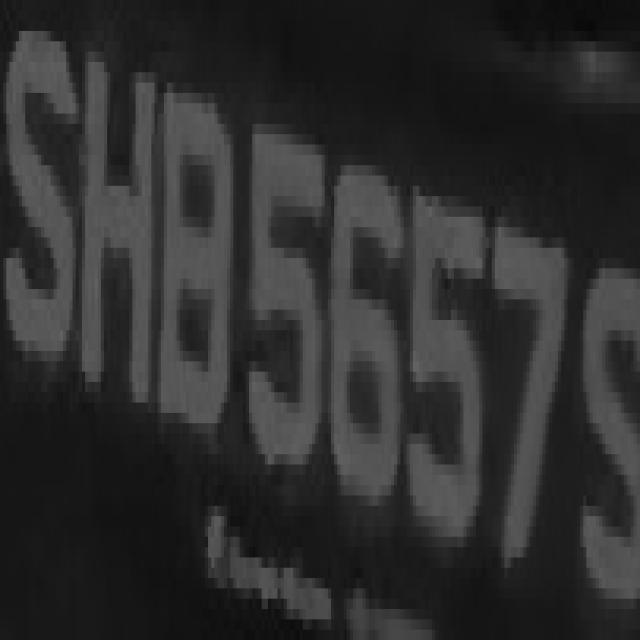5: (243, 72, 328, 485), (416, 155, 489, 557)
6: (325, 134, 416, 527)
7: (482, 175, 568, 640)
B: (164, 62, 243, 423)
H: (92, 52, 154, 423)
S: (9, 0, 81, 392), (583, 206, 640, 630)
